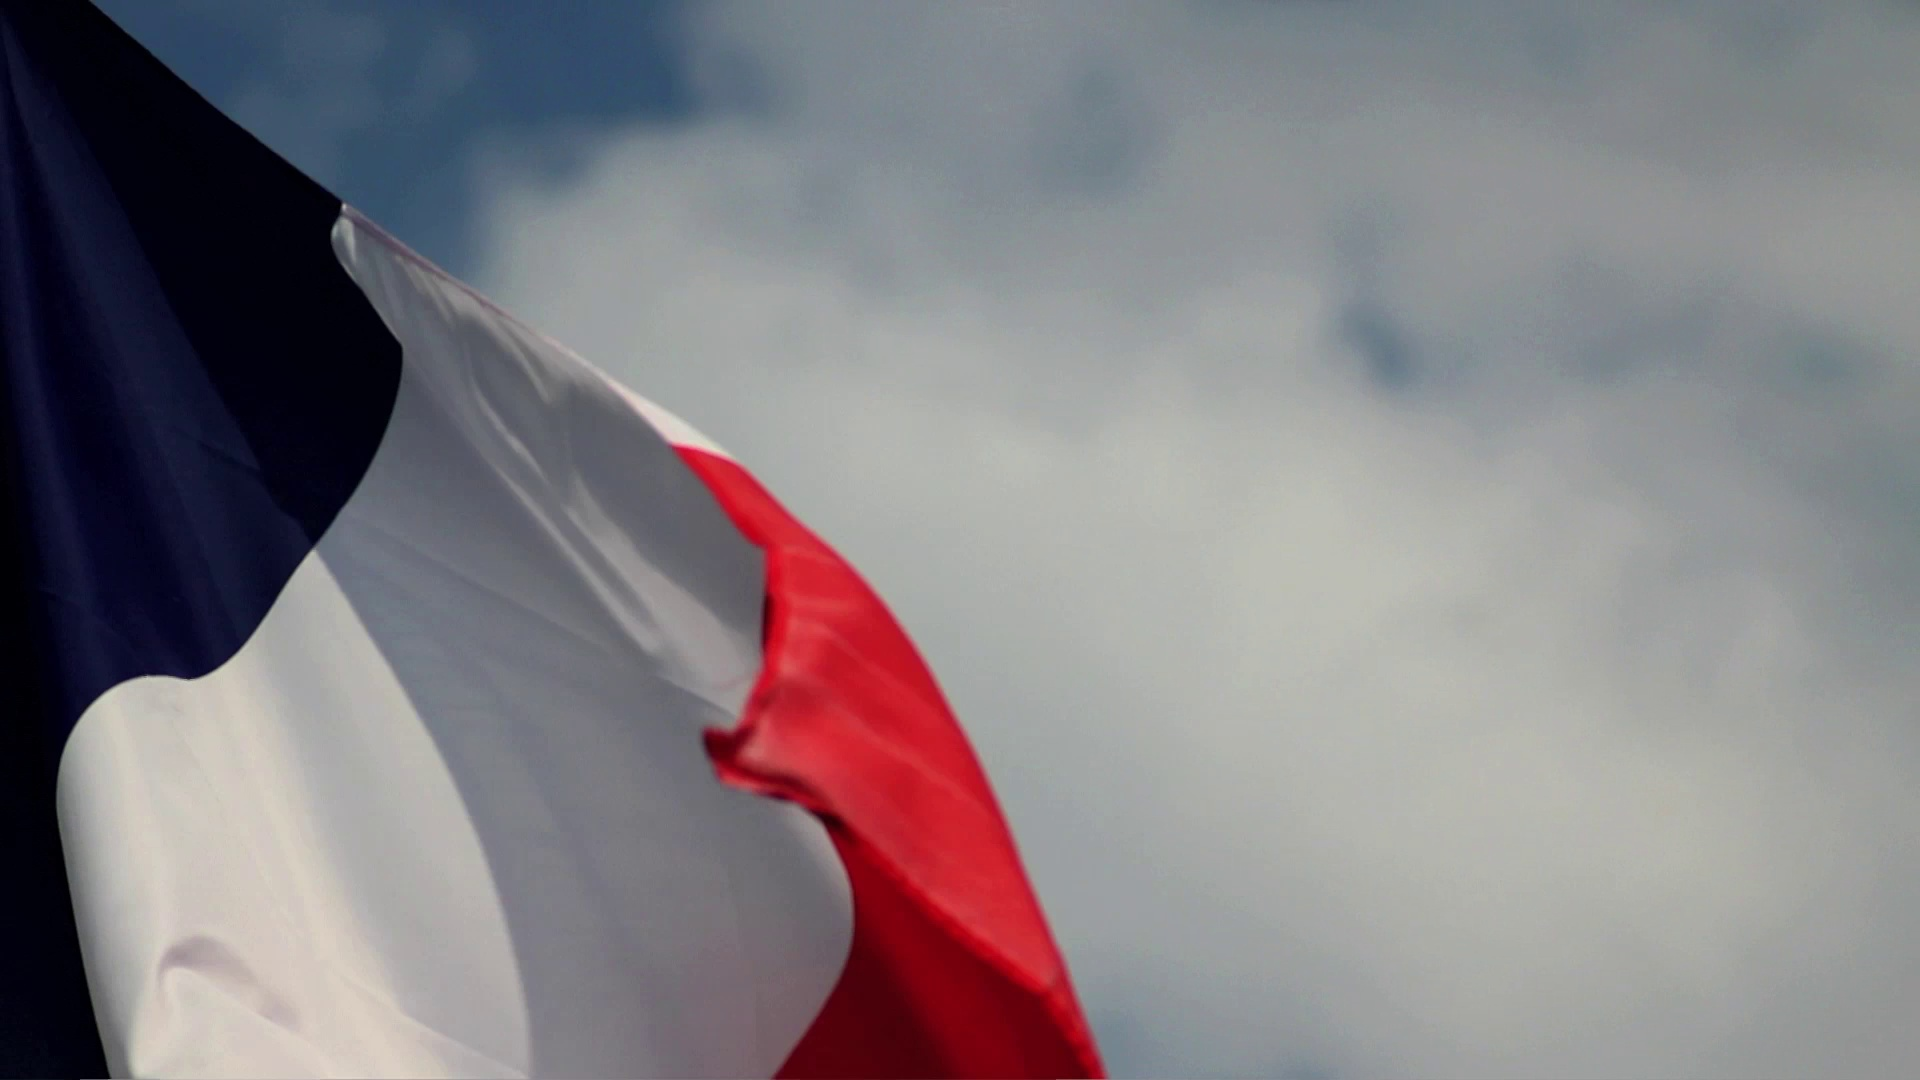French Flag: (1, 1, 1101, 1080)
